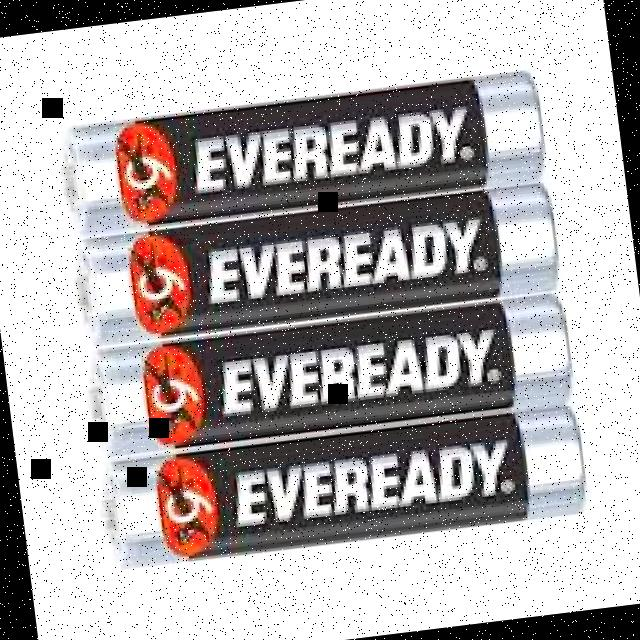battery: (99, 404, 584, 571), (59, 69, 545, 235), (75, 182, 557, 347), (86, 292, 569, 456)
